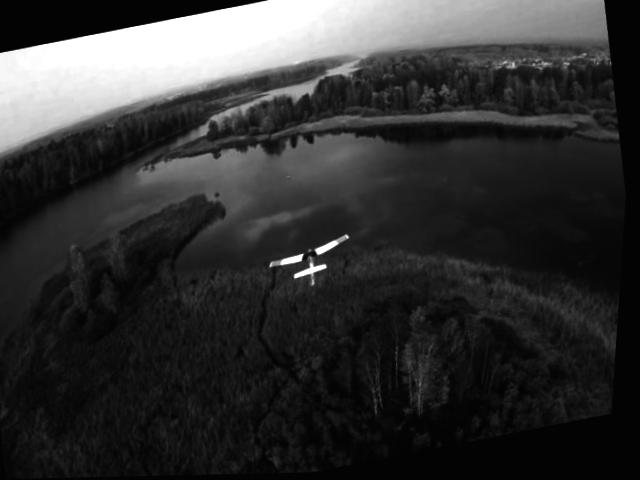hedef: (258, 227, 361, 297)
